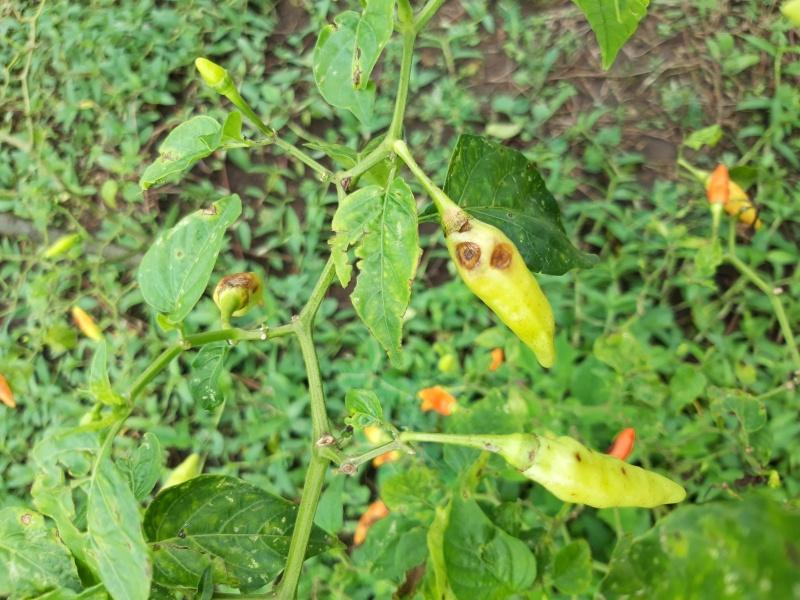antraknosa: (447, 218, 556, 368), (527, 431, 689, 511), (213, 270, 264, 318)
